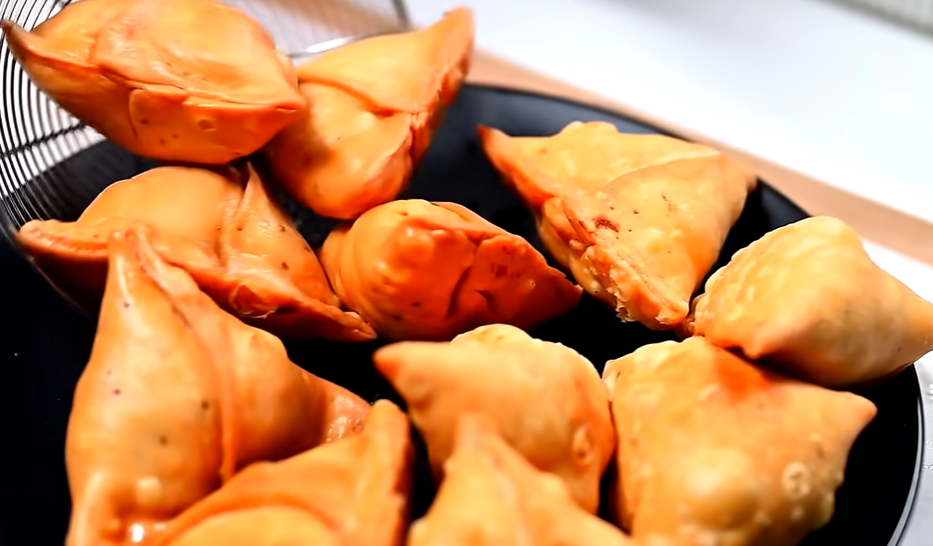samosa: (65, 230, 372, 545), (21, 155, 380, 341), (476, 114, 761, 330), (599, 339, 878, 544), (1, 0, 303, 159), (273, 0, 479, 211), (378, 326, 606, 509)
